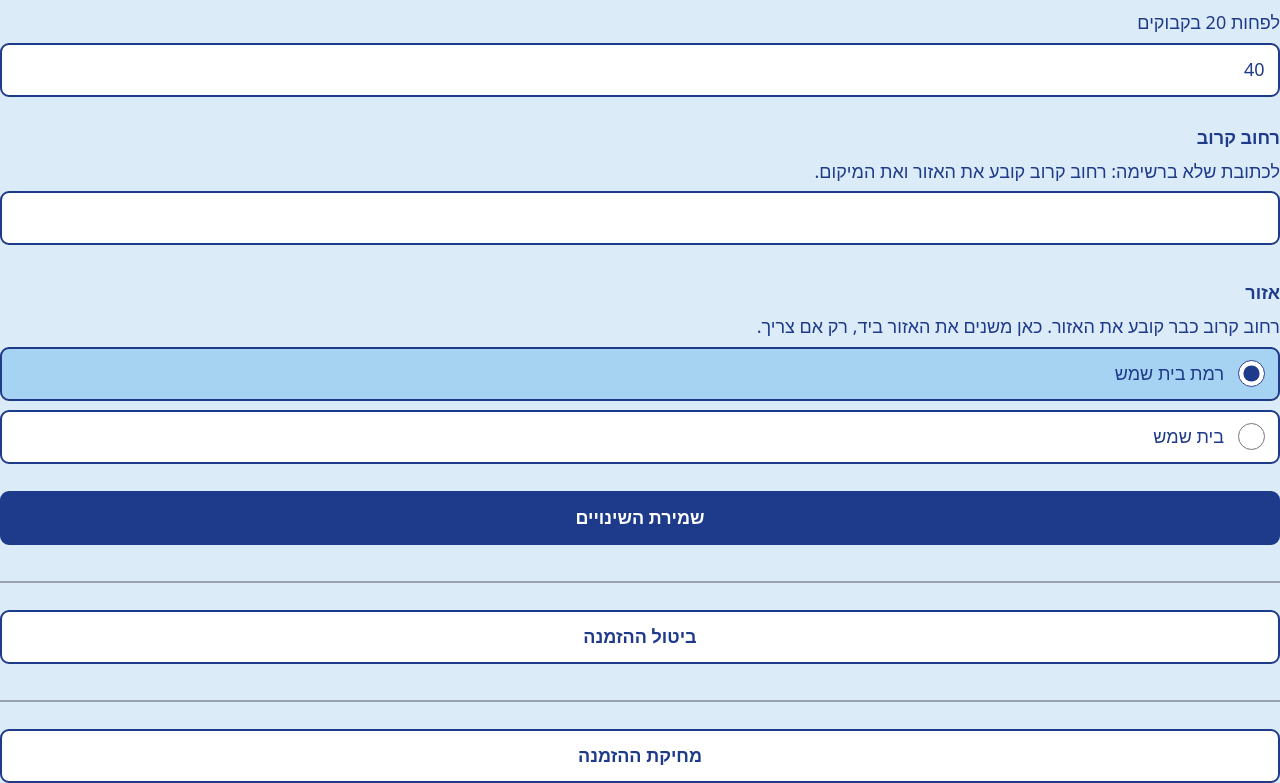
Scenario: EditOrderScreen › saving › shows the message when the save answers notFound
The width and height of the screenshot is (1280, 783).
(page scrolled)
Step 1. Click the button "שמירת השינויים" → (640, 518), box [0,491,1279,545]
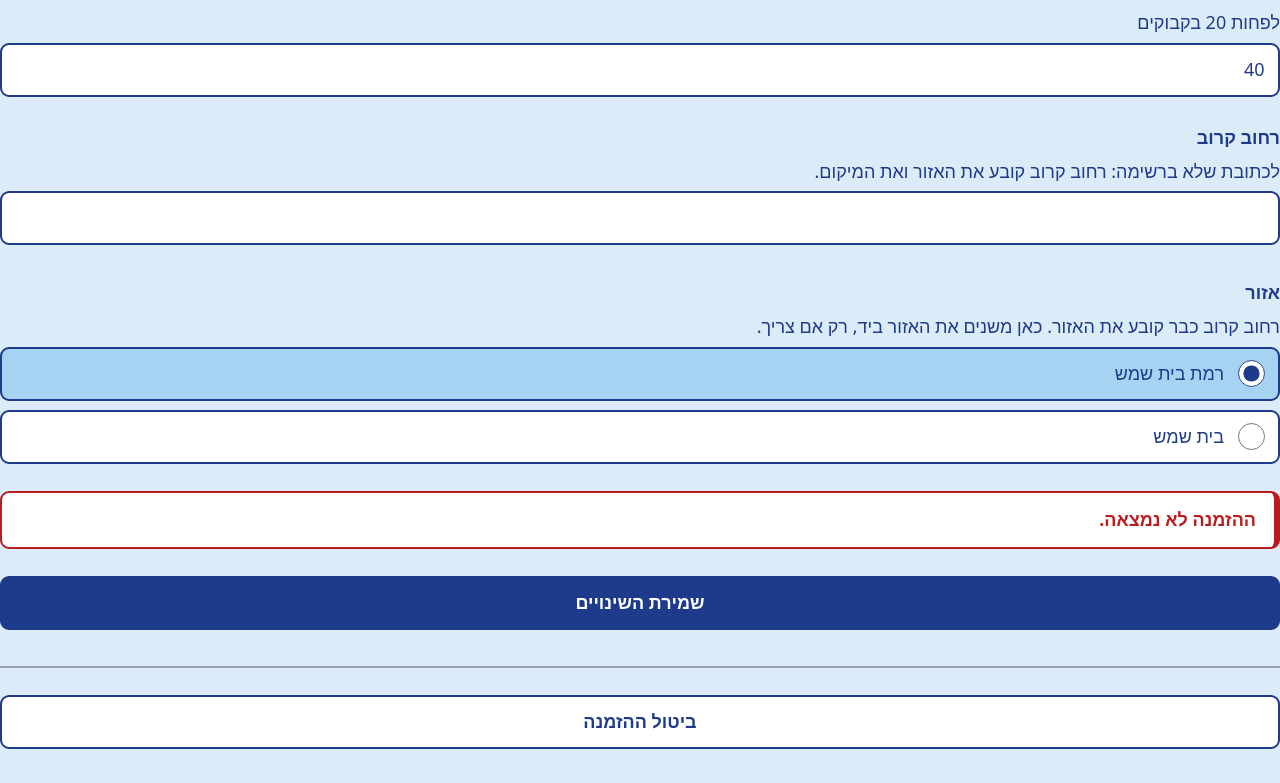
Result: the message reads "ההזמנה לא נמצאה." at [1099,507,1256,531]
